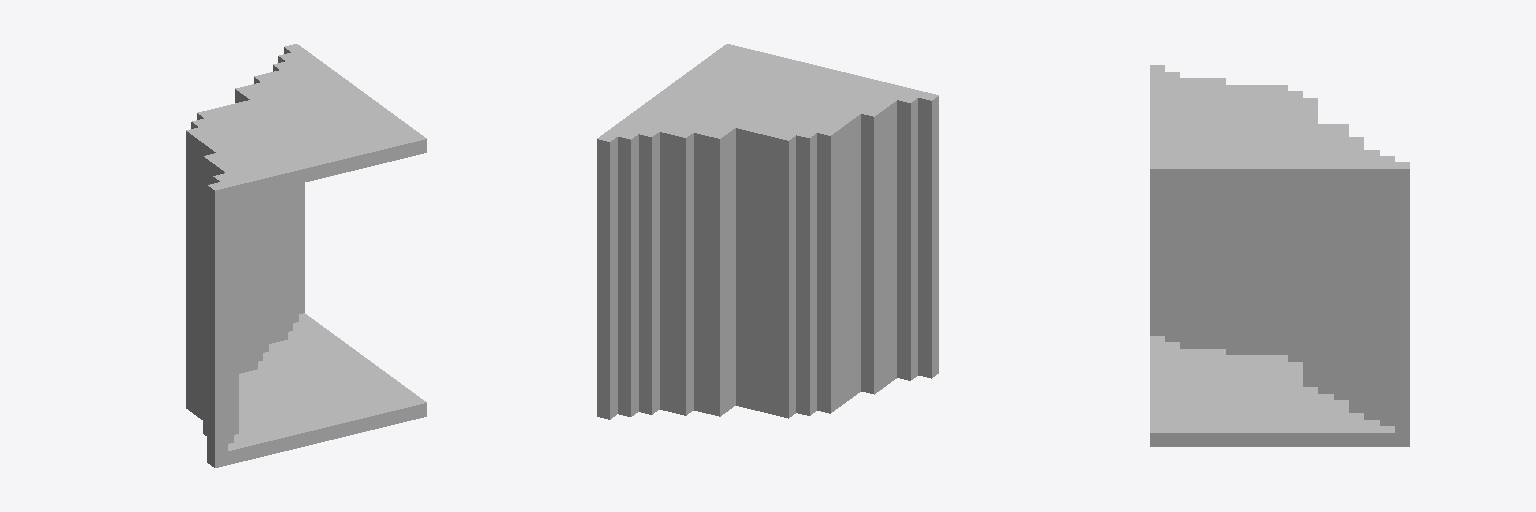
Rendered from threesides.obj.
3 renders of one model, left to right at view 1: azimuth 30°, elevation 25°; view 2: azimuth 150°, elevation 25°; view 3: azimuth 270°, elevation 25°, orthographic.
Visible parts, largest first — view 1: island-3; view 2: island-3; view 3: island-3.
Part boxes in pixels (bbox=[...]): island-3: bbox=[186, 44, 426, 467]; island-3: bbox=[597, 44, 938, 419]; island-3: bbox=[1150, 65, 1409, 446].
Size of the model in its own units: 1.6 by 2 by 1.7.